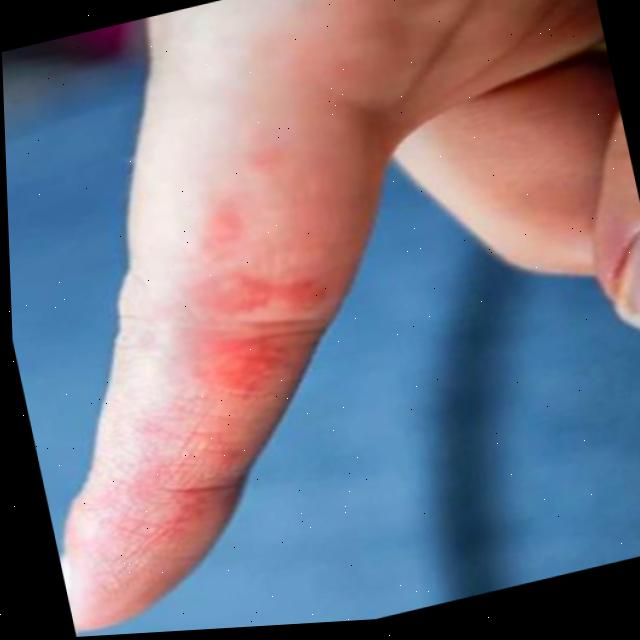Eczema: (17, 129, 391, 595)
